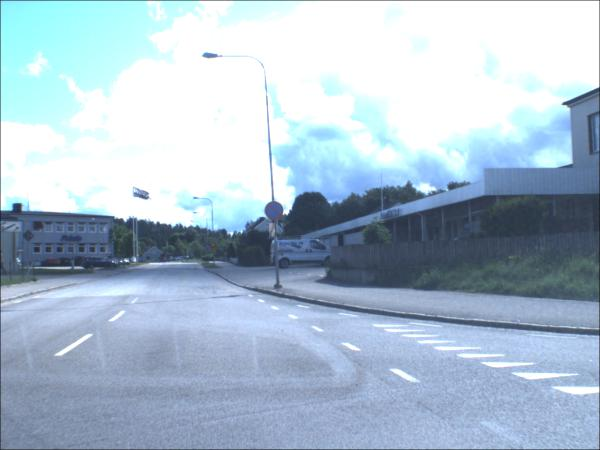NO_PARKING: (266, 201, 286, 222)
PRIORITY_ROAD: (270, 224, 277, 239)
